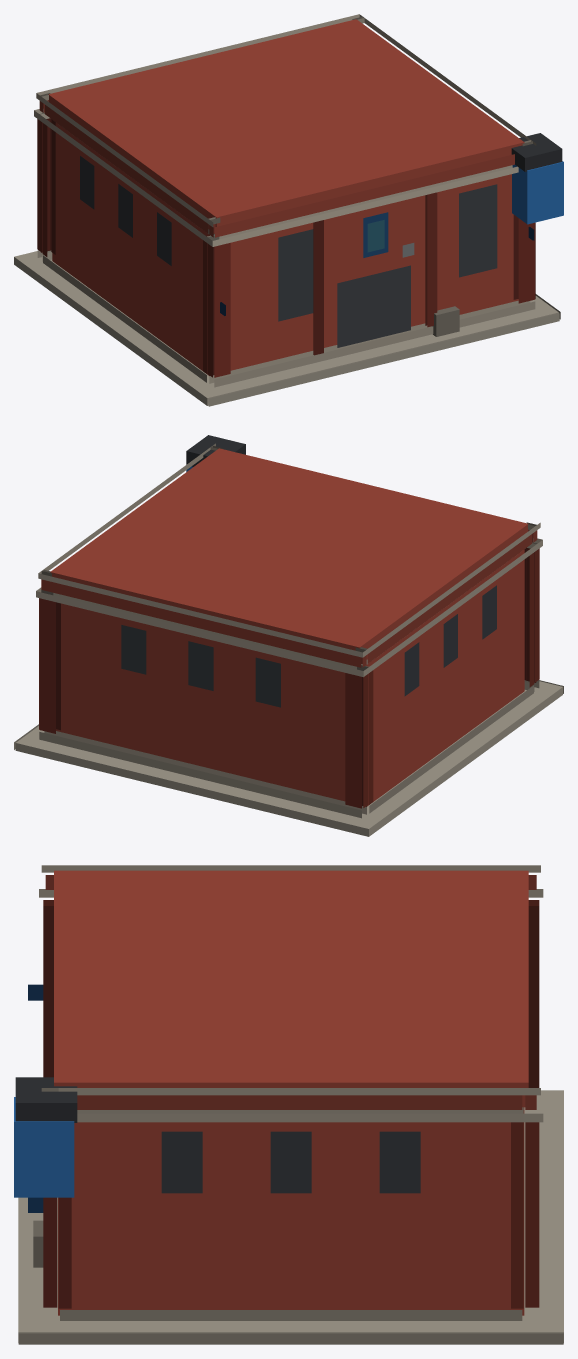
File: DropBeetleSil.fbx
The picture shows the model from 3 angles, top to bottom: view 1: azimuth 30°, elevation 25°; view 2: azimuth 150°, elevation 25°; view 3: azimuth 270°, elevation 25°; orthographic projection. The views are drawn at different scales.
Parts seen in each view (by area): view 1: WT_S_All; view 2: WT_S_All; view 3: WT_S_All.
Boxes of the visible parts, x1=… form: WT_S_All: x1=14, y1=14, x2=563, y2=406; WT_S_All: x1=14, y1=435, x2=563, y2=836; WT_S_All: x1=14, y1=865, x2=563, y2=1344.
Bounding box in the file's own units: 42.46 × 19.9 × 40.36.
